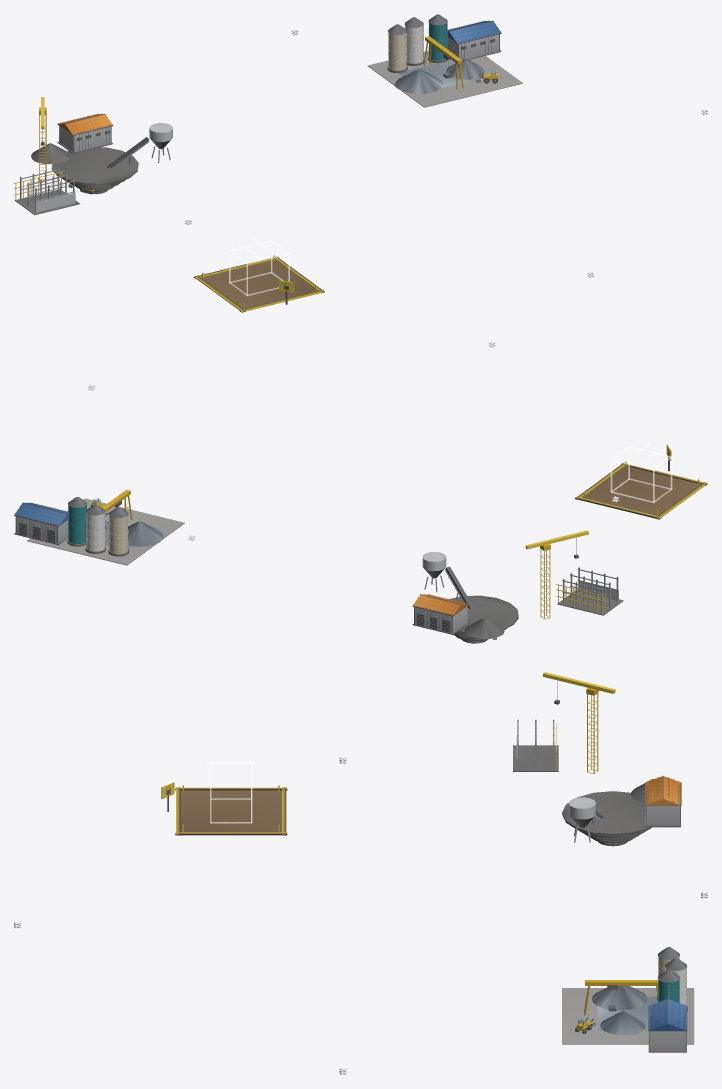
The model's file is Sites_P2.fbx.
3 views of the same model, one above another, from view 1: azimuth 30°, elevation 25°; view 2: azimuth 150°, elevation 25°; view 3: azimuth 270°, elevation 25° (orthographic). The views are drawn at different scales.
Parts seen in each view (by area): view 1: Site.plant.Pad, Site.Store.Yard, Site.Quarry.Benches, Site.Construction, Site.Quarry.Shed, Site.Store.Shed, Site.Store.Silo0, Site.Store.Pile0, Site.Store.Silo1, Site.plant.Ghost, Site.Store.Silo2, Site.Quarry.Heap (+3 smaller); view 2: Site.plant.Pad, Site.Store.Yard, Site.Construction, Site.Store.Shed, Site.Quarry.Shed, Site.Quarry.Benches, Site.Crane, Site.Store.Silo0, Site.Store.Silo1, Site.plant.Ghost, Site.Store.Silo2, Site.Store.Pile0 (+2 smaller); view 3: Site.plant.Pad, Site.Store.Yard, Site.Quarry.Benches, Site.Store.Shed, Site.Quarry.Shed, Site.Construction, Site.Crane, Site.Store.Pile0, Site.Store.Pile1, Site.Quarry.Hopper, Site.Store.Gantry, Site.plant.Ghost (+1 smaller).
Part boxes in pixels (x1=…): Site.plant.Pad: x1=194, y1=255, x2=324, y2=312; Site.Store.Yard: x1=367, y1=50, x2=522, y2=107; Site.Quarry.Benches: x1=51, y1=147, x2=138, y2=194; Site.Construction: x1=14, y1=167, x2=79, y2=215; Site.Quarry.Shed: x1=57, y1=113, x2=113, y2=153; Site.Store.Shed: x1=447, y1=20, x2=501, y2=59; Site.Store.Silo0: x1=387, y1=24, x2=407, y2=73; Site.Store.Pile0: x1=395, y1=69, x2=442, y2=94; Site.Store.Silo1: x1=404, y1=17, x2=424, y2=65; Site.plant.Ghost: x1=229, y1=236, x2=289, y2=296; Site.Store.Silo2: x1=427, y1=14, x2=447, y2=63; Site.Quarry.Heap: x1=31, y1=143, x2=70, y2=164; Site.plant.Pad: x1=575, y1=461, x2=707, y2=519; Site.Store.Yard: x1=27, y1=498, x2=184, y2=565; Site.Construction: x1=556, y1=567, x2=623, y2=615; Site.Store.Shed: x1=14, y1=502, x2=68, y2=544; Site.Quarry.Shed: x1=412, y1=594, x2=469, y2=634; Site.Quarry.Benches: x1=449, y1=595, x2=518, y2=643; Site.Crane: x1=525, y1=530, x2=588, y2=619; Site.Store.Silo0: x1=108, y1=507, x2=129, y2=556; Site.Store.Silo1: x1=85, y1=504, x2=105, y2=553; Site.plant.Ghost: x1=610, y1=442, x2=672, y2=502; Site.Store.Silo2: x1=67, y1=497, x2=87, y2=546; Site.Store.Pile0: x1=128, y1=521, x2=163, y2=546; Site.plant.Pad: x1=175, y1=785, x2=287, y2=835; Site.Store.Yard: x1=562, y1=988, x2=694, y2=1044; Site.Quarry.Benches: x1=562, y1=791, x2=651, y2=846; Site.Store.Shed: x1=648, y1=998, x2=687, y2=1052; Site.Quarry.Shed: x1=645, y1=775, x2=681, y2=827; Site.Construction: x1=513, y1=719, x2=558, y2=771; Site.Crane: x1=543, y1=672, x2=615, y2=773; Site.Store.Pile0: x1=592, y1=986, x2=647, y2=1010; Site.Store.Pile1: x1=600, y1=1011, x2=645, y2=1035; Site.Quarry.Hopper: x1=568, y1=797, x2=595, y2=842; Site.Store.Gantry: x1=584, y1=980, x2=658, y2=1015; Site.plant.Ghost: x1=206, y1=761, x2=255, y2=823.
Bounding box in the file's own units: 31692 × 5205 × 27269.
